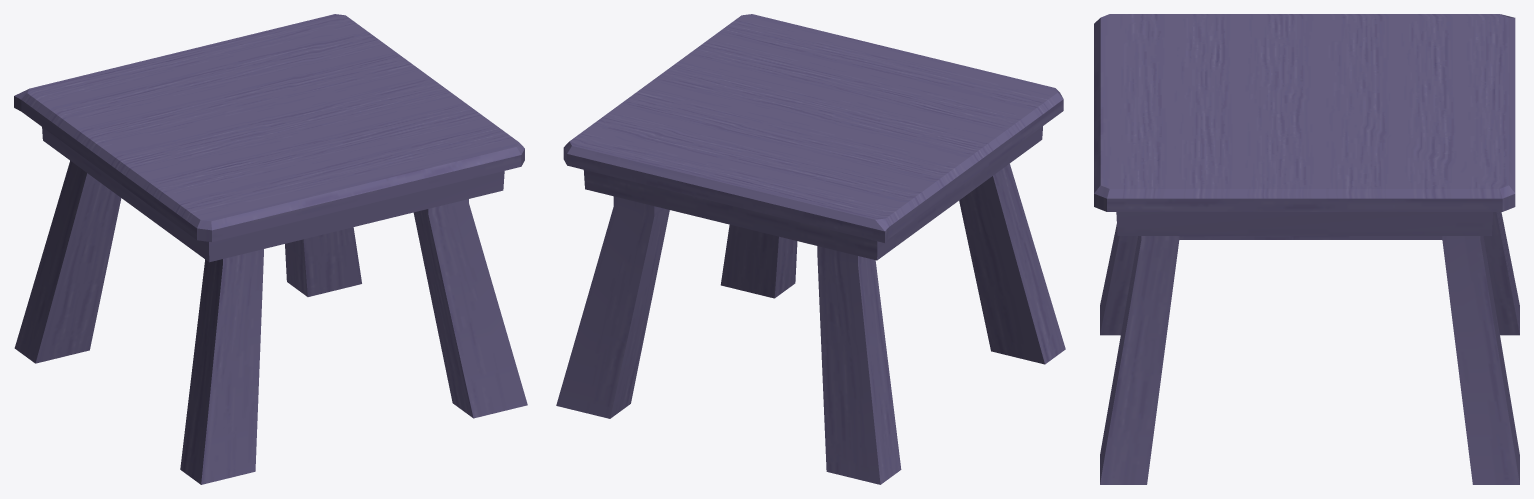
File: Stool_F.FBX
The picture shows the model from 3 angles, left to right: view 1: azimuth 30°, elevation 25°; view 2: azimuth 150°, elevation 25°; view 3: azimuth 270°, elevation 25°; orthographic projection. The views are drawn at different scales.
Visible parts, largest first — view 1: Stool; view 2: Stool; view 3: Stool.
Boxes of the visible parts, bbox=[...] form: Stool: bbox=[14, 14, 527, 484]; Stool: bbox=[556, 14, 1065, 484]; Stool: bbox=[1094, 14, 1519, 484].
Size of the model in its own units: 121 by 91.5 by 120.
